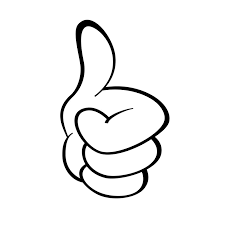thumbs_up: (41, 12, 186, 210)
